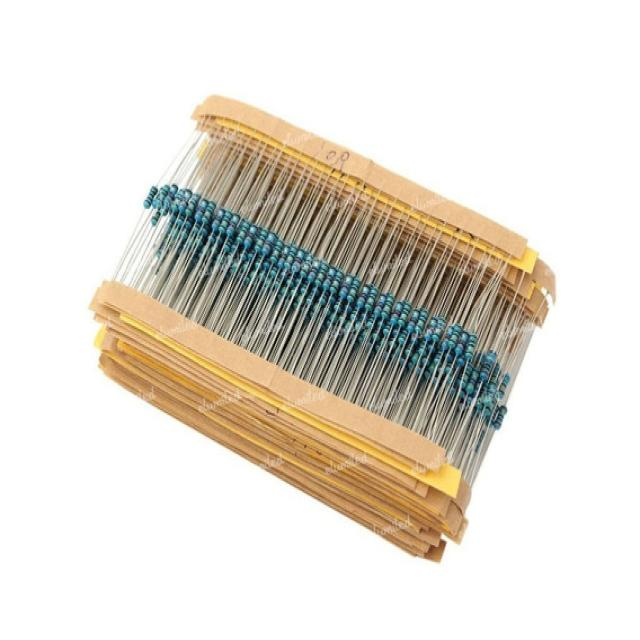Resistor: (346, 294, 507, 432), (448, 342, 509, 431), (147, 184, 173, 221), (214, 209, 235, 247), (176, 188, 194, 214), (492, 404, 508, 430), (263, 232, 278, 257), (143, 185, 158, 209), (462, 381, 477, 401), (395, 299, 411, 317), (448, 381, 461, 399), (480, 399, 492, 417), (322, 278, 334, 294), (226, 224, 237, 241), (474, 397, 485, 414), (343, 274, 356, 288), (317, 294, 328, 310), (360, 284, 372, 298), (327, 266, 339, 280), (423, 329, 434, 344), (244, 236, 254, 252), (229, 214, 240, 228), (339, 287, 350, 301), (248, 225, 258, 240), (446, 336, 456, 351), (295, 249, 306, 262), (456, 356, 466, 370), (454, 343, 464, 357), (198, 199, 208, 212), (479, 370, 489, 383), (388, 316, 398, 329), (151, 212, 160, 226), (458, 332, 468, 344), (142, 198, 151, 210), (155, 249, 163, 261)
